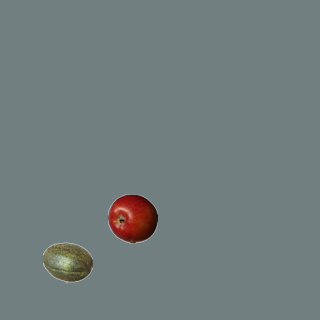Apple Braeburn: (107, 193, 157, 243)
Melon Piel de Sapo: (42, 237, 92, 287)
